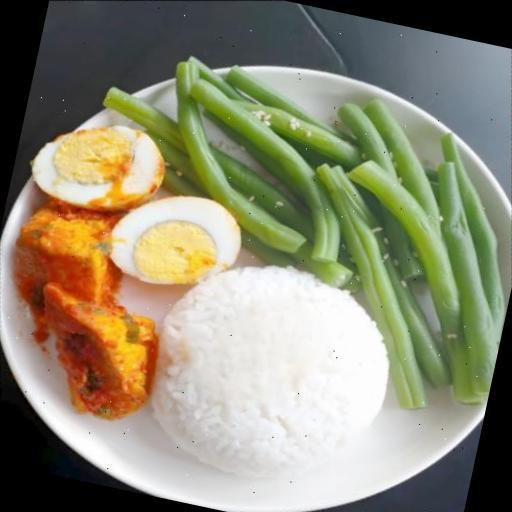buncis_rebus: (193, 0, 512, 310)
nasi_putih: (115, 246, 406, 512)
